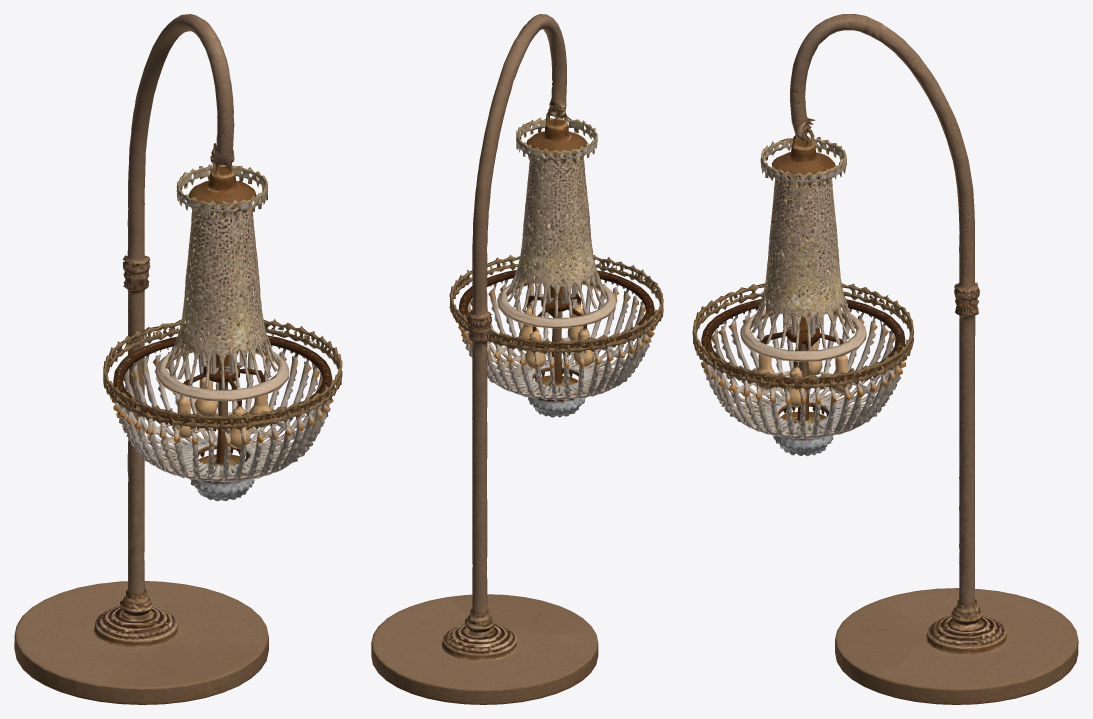
The model's file is decor-chandelier-crystal.glb.
3 renders of one model, left to right at view 1: azimuth 30°, elevation 25°; view 2: azimuth 150°, elevation 25°; view 3: azimuth 270°, elevation 25°, orthographic. The views are drawn at different scales.
Parts seen in each view (by area): view 1: tripo_node_9b3b85cf-336d-4bb6-9cf8-43753de5b648; view 2: tripo_node_9b3b85cf-336d-4bb6-9cf8-43753de5b648; view 3: tripo_node_9b3b85cf-336d-4bb6-9cf8-43753de5b648.
Boxes of the visible parts, bbox=[...] form: tripo_node_9b3b85cf-336d-4bb6-9cf8-43753de5b648: bbox=[14, 14, 342, 704]; tripo_node_9b3b85cf-336d-4bb6-9cf8-43753de5b648: bbox=[371, 14, 663, 704]; tripo_node_9b3b85cf-336d-4bb6-9cf8-43753de5b648: bbox=[692, 14, 1078, 704].
Size of the model in its own units: 0.2724 by 0.8 by 0.4368.
1 material, 1 textured.
